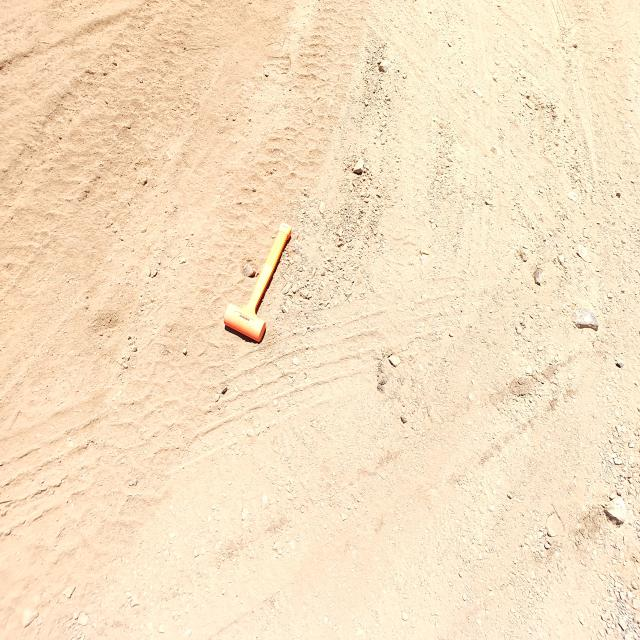Orange_hammer: (223, 222, 292, 344)
